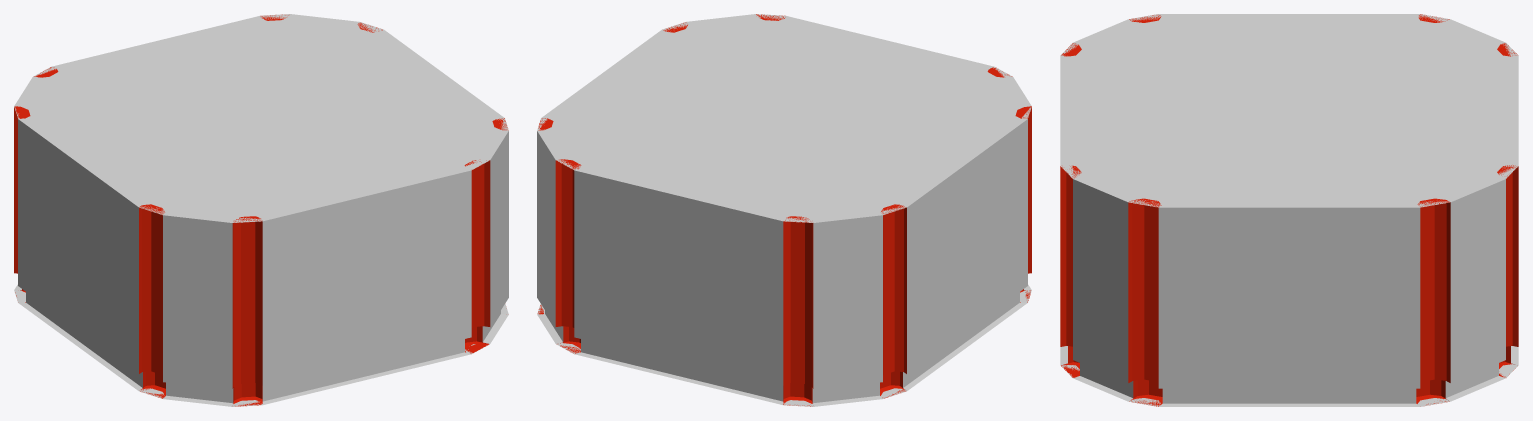
File: Room 1.fbx
3 renders of one model, left to right at view 1: azimuth 30°, elevation 25°; view 2: azimuth 150°, elevation 25°; view 3: azimuth 270°, elevation 25°, orthographic. The views are drawn at different scales.
Visible parts, largest first — view 1: Cube; view 2: Cube; view 3: Cube.
Boxes of the visible parts, x1,y1,x2,y2 form: Cube: [14, 14, 508, 406]; Cube: [537, 14, 1031, 406]; Cube: [1060, 14, 1518, 406].
Size of the model in its own units: 4000 by 1920 by 4000.
